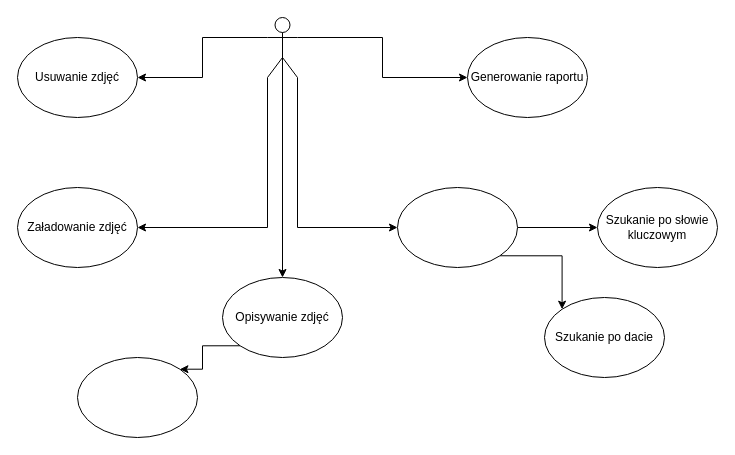
Image size: 735x455. Some labels were removed from this diagram. The shapes that lost their labels are listed below. From the top down, each one's box as (x1, y1, x2, y2) in pixels, then its label:
(266, 16, 298, 78): Użytkownik
(396, 186, 518, 268): Filtrowanie z użyciem argumentów
(76, 356, 198, 438): Kategoria
